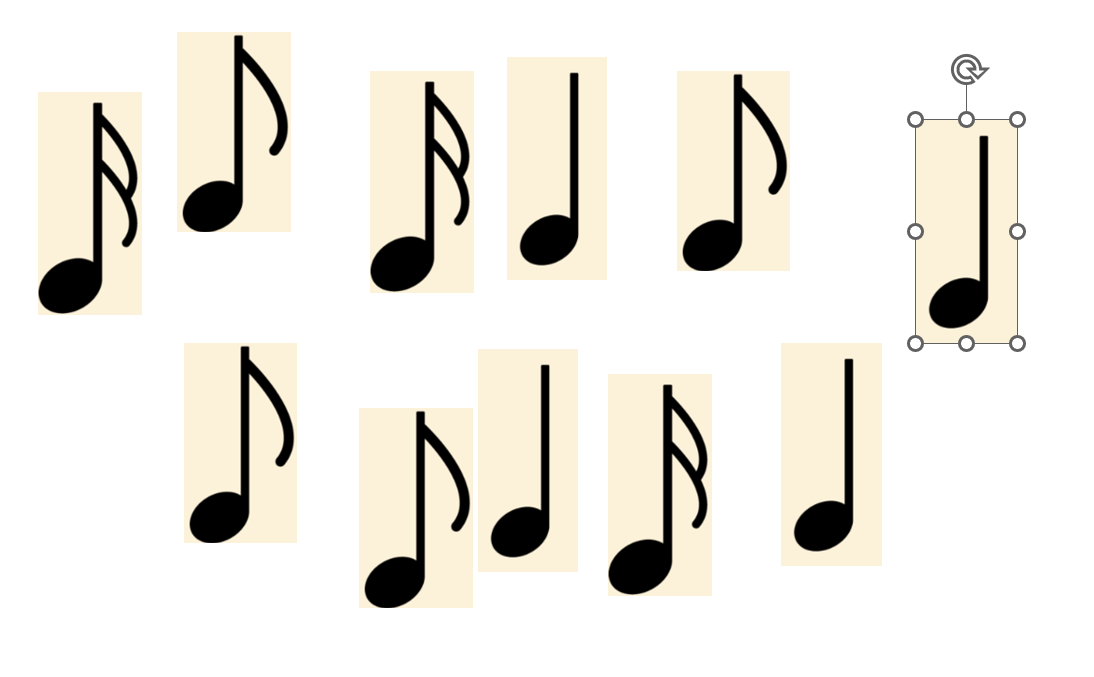pal: (188, 346, 295, 543), (364, 410, 469, 610), (183, 35, 287, 233), (681, 75, 786, 271)
sa: (927, 135, 989, 328), (519, 73, 579, 265), (491, 363, 549, 557), (795, 358, 853, 551)
sipyuck: (370, 81, 470, 294), (37, 103, 137, 314), (608, 385, 707, 595)
